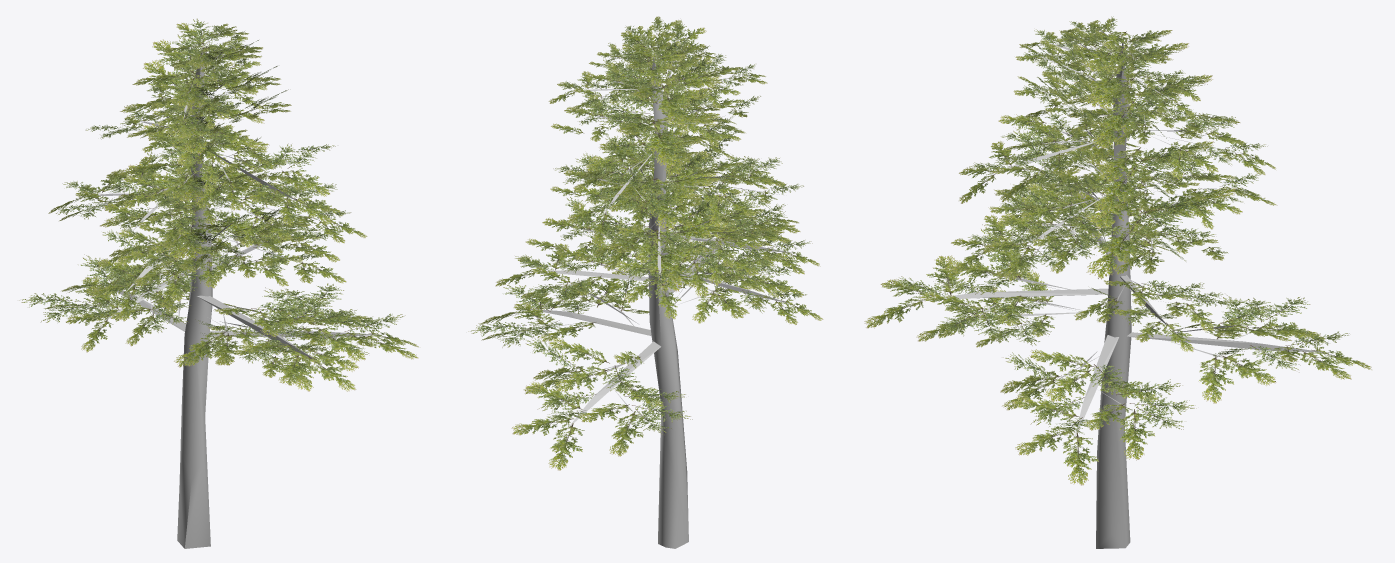
Rendered from Tree_Leaf_Top_01.fbx.
3 renders of one model, left to right at view 1: azimuth 30°, elevation 25°; view 2: azimuth 150°, elevation 25°; view 3: azimuth 270°, elevation 25°, orthographic. The views are drawn at different scales.
Parts seen in each view (by area): view 1: Tree_Leaf_Top_01; view 2: Tree_Leaf_Top_01; view 3: Tree_Leaf_Top_01.
Part boxes in pixels (x1=…): Tree_Leaf_Top_01: x1=19, y1=18, x2=418, y2=548; Tree_Leaf_Top_01: x1=468, y1=16, x2=823, y2=548; Tree_Leaf_Top_01: x1=864, y1=16, x2=1371, y2=548.
Size of the model in its own units: 433 by 601 by 537.
